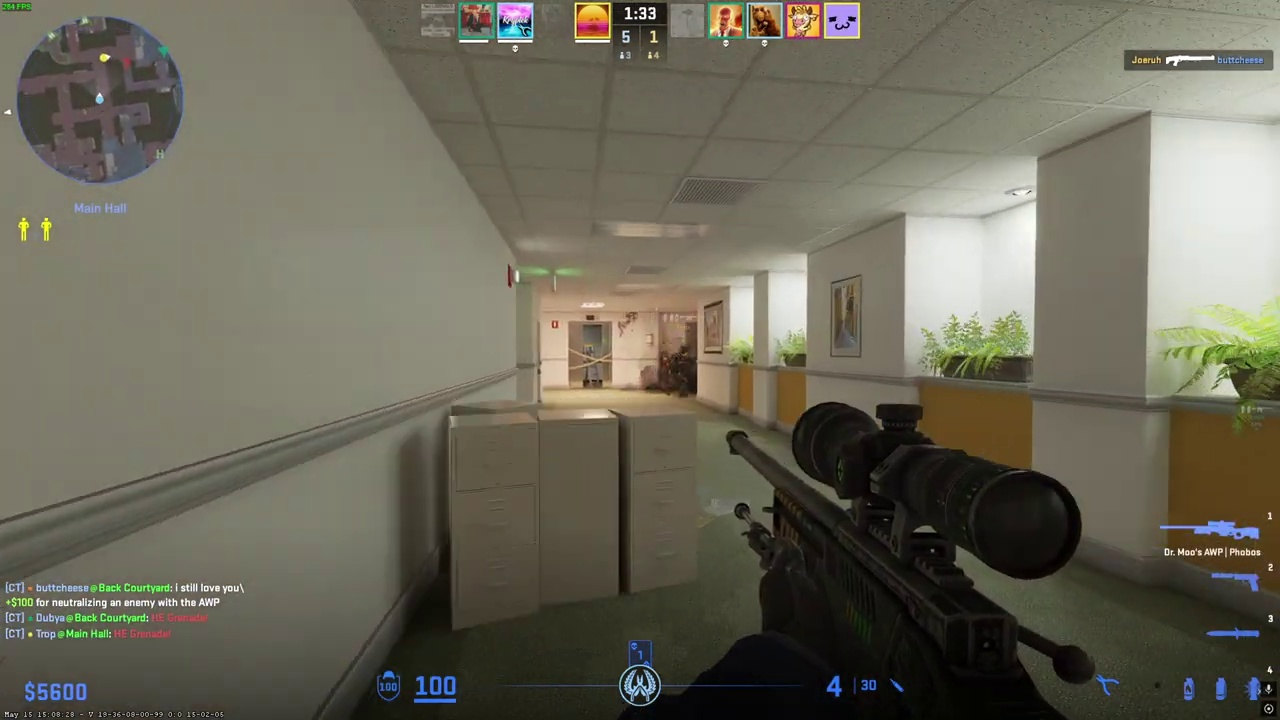CT: (668, 345, 695, 398)
